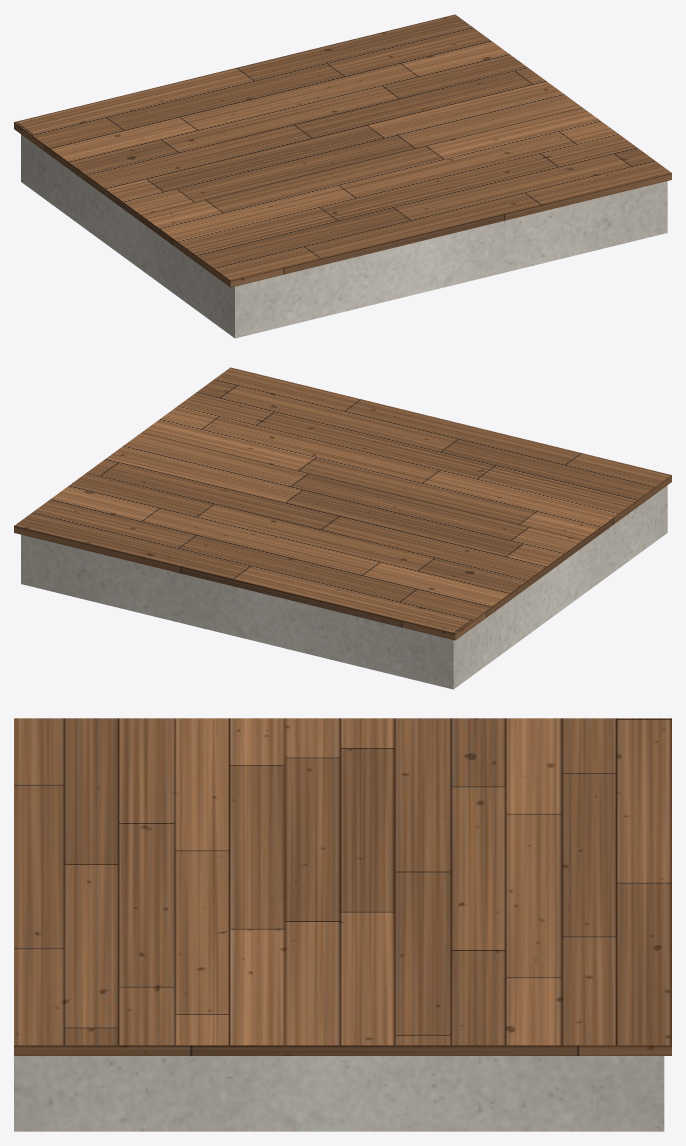
The model's file is floor_floor_u_e0001.glb.
3 views of the same model, one above another, from view 1: azimuth 30°, elevation 25°; view 2: azimuth 150°, elevation 25°; view 3: azimuth 270°, elevation 25° (orthographic). The views are drawn at different scales.
Visible parts, largest first — view 1: floor_floor_u_e0001_floor, floor_floor_u_e0001_plaster; view 2: floor_floor_u_e0001_floor, floor_floor_u_e0001_plaster; view 3: floor_floor_u_e0001_floor, floor_floor_u_e0001_plaster.
Boxes of the visible parts, x1,y1,x2,y2 form: floor_floor_u_e0001_floor: (14, 14, 671, 287); floor_floor_u_e0001_plaster: (21, 134, 667, 338); floor_floor_u_e0001_floor: (14, 367, 671, 640); floor_floor_u_e0001_plaster: (21, 485, 667, 689); floor_floor_u_e0001_floor: (14, 718, 671, 1055); floor_floor_u_e0001_plaster: (14, 1056, 664, 1131).
Bounding box in the file's own units: 2 × 0.255 × 1.7.
Materials: 2 (2 with a texture image).
